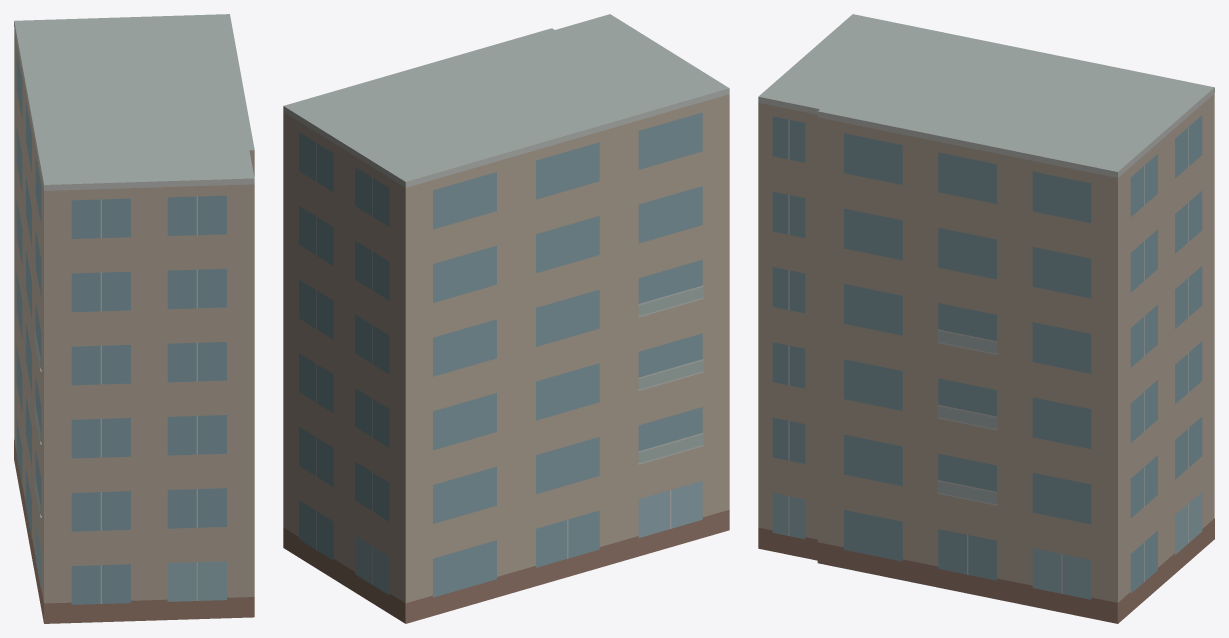
File: survey-upis-33032961.glb
The picture shows the model from 3 angles, left to right: view 1: azimuth 30°, elevation 25°; view 2: azimuth 150°, elevation 25°; view 3: azimuth 270°, elevation 25°; orthographic projection. The views are drawn at different scales.
Visible parts, largest first — view 1: survey-upis-33032961.tmp; view 2: survey-upis-33032961.tmp; view 3: survey-upis-33032961.tmp.
Boxes of the visible parts, <box> form: survey-upis-33032961.tmp: <box>14,14,254,623</box>; survey-upis-33032961.tmp: <box>283,14,729,623</box>; survey-upis-33032961.tmp: <box>758,14,1214,623</box>.
Bounding box in the file's own units: 13.74 × 18.3 × 16.77.
